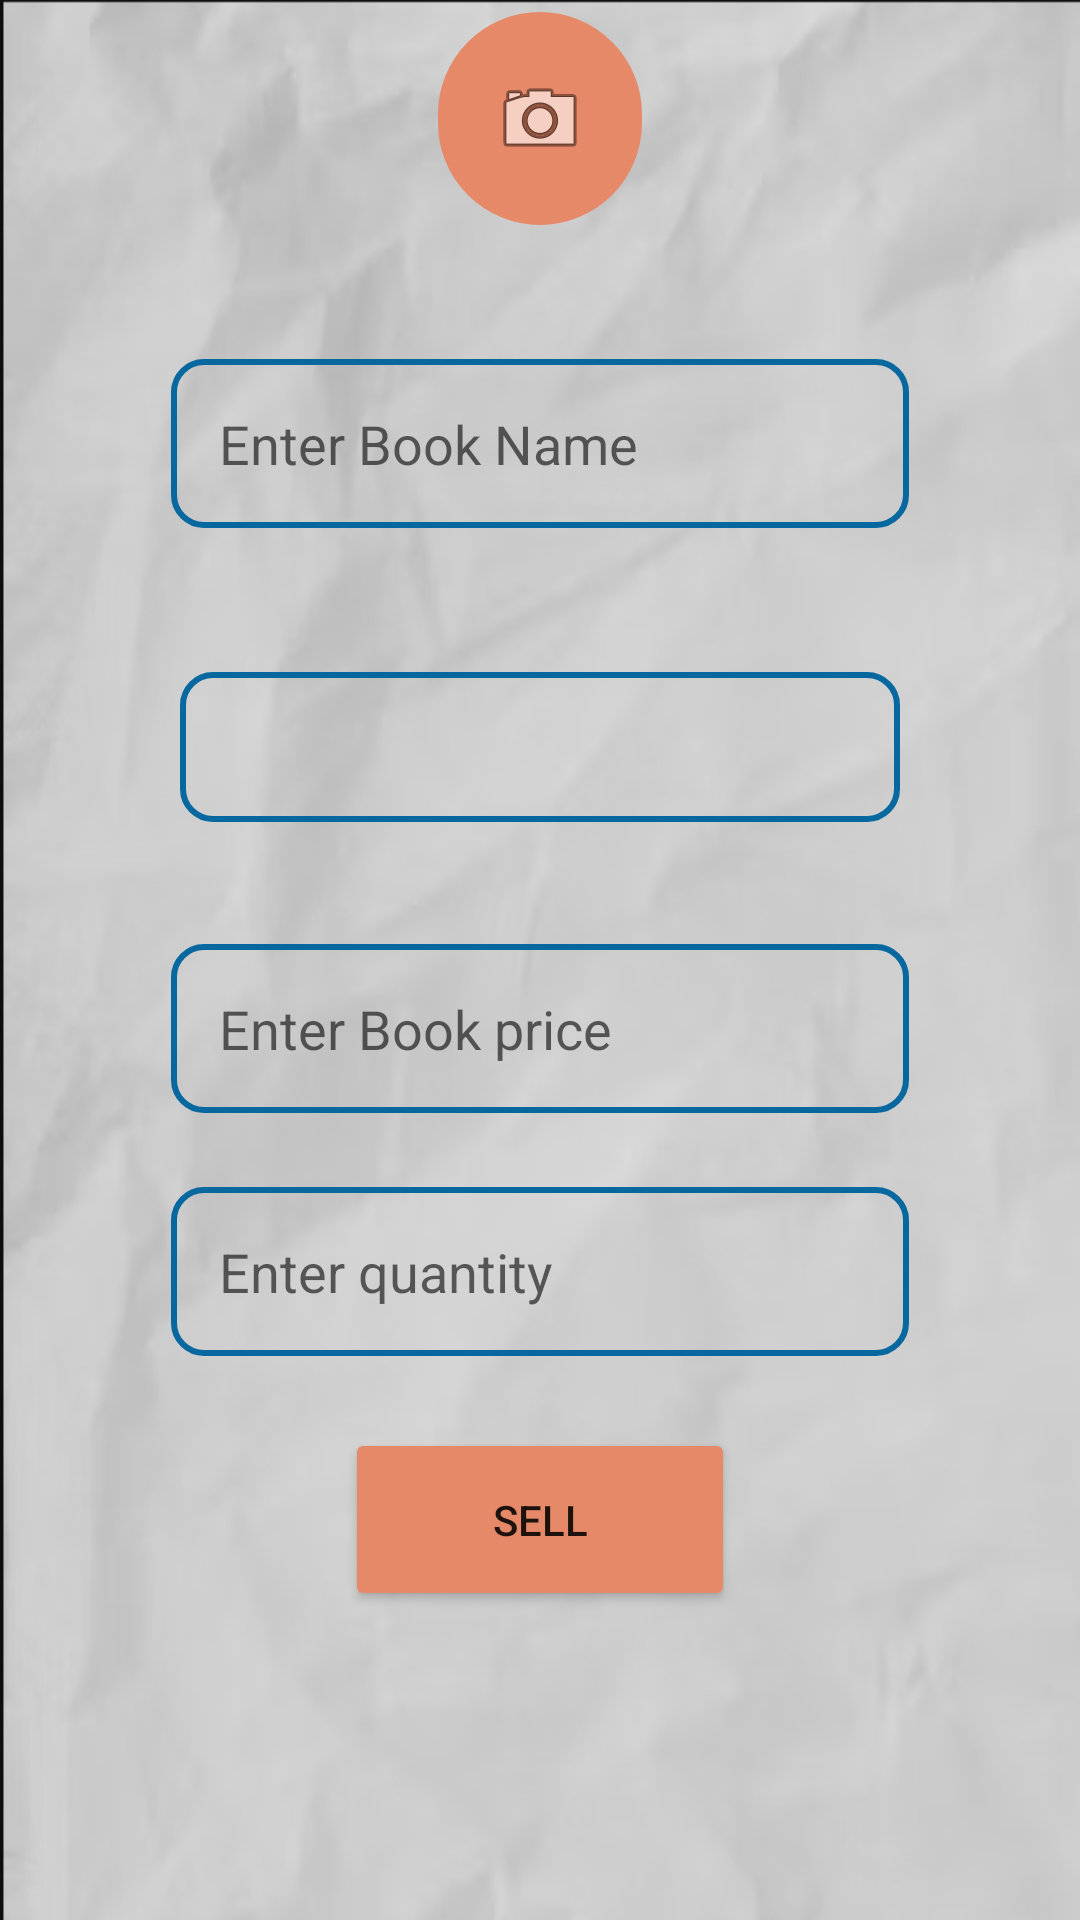

Where to tap for icons on this 1080*1920 app screen, as (x,y):
camera: (540,118)
